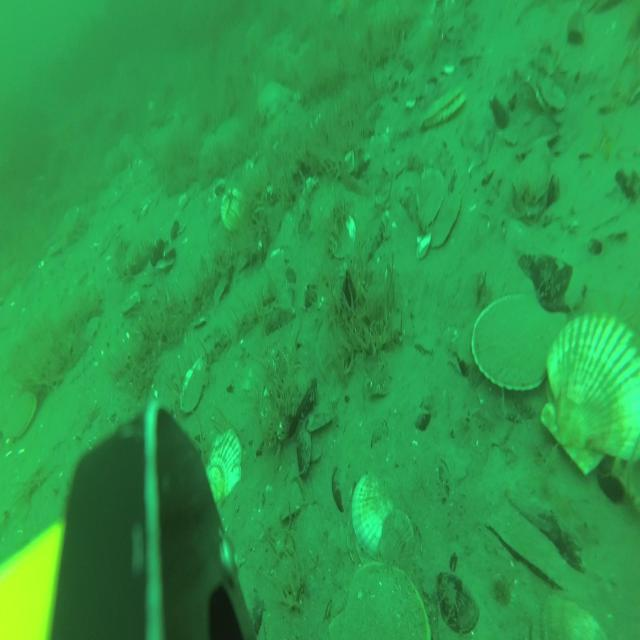scallop: (539, 312, 640, 471), (468, 296, 566, 392), (341, 568, 428, 640), (526, 591, 608, 640), (351, 472, 395, 554), (204, 428, 239, 503), (420, 84, 468, 128), (430, 191, 463, 249), (378, 512, 414, 564), (416, 165, 442, 227), (182, 357, 210, 411), (10, 386, 34, 441), (221, 189, 245, 234)
starfish: (258, 81, 294, 119)
